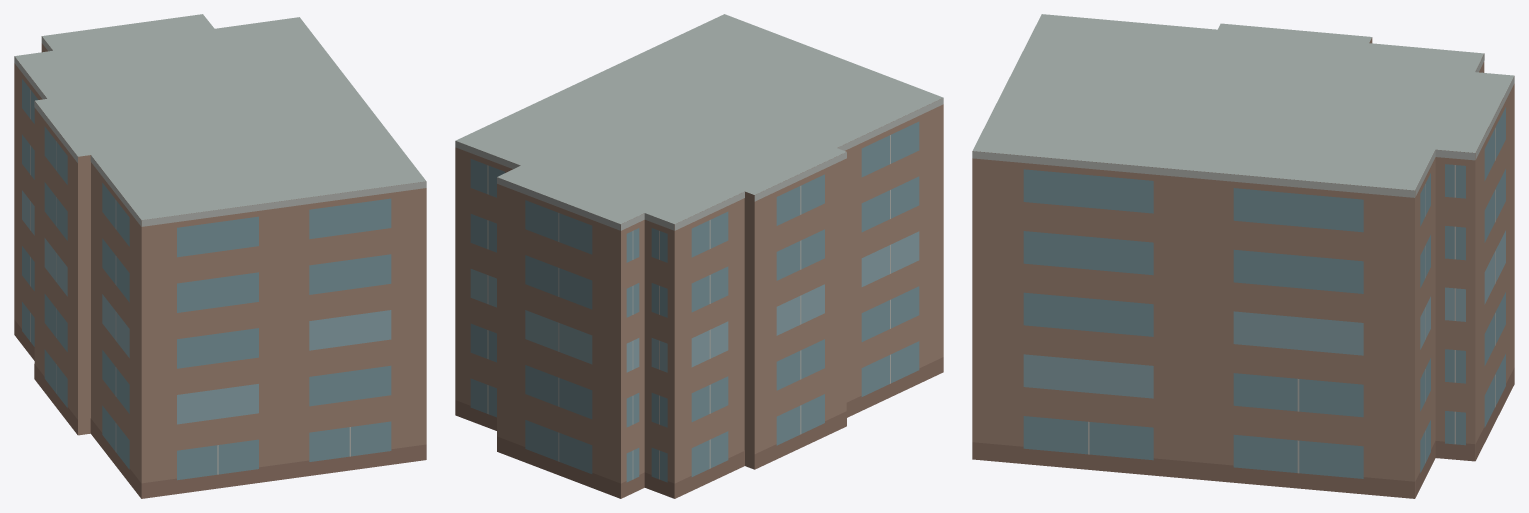
Rendered from survey-upis-32861479.glb.
3 views of the same model, side by side, from view 1: azimuth 30°, elevation 25°; view 2: azimuth 150°, elevation 25°; view 3: azimuth 270°, elevation 25° (orthographic). The views are drawn at different scales.
Visible parts, largest first — view 1: survey-upis-32861479.tmp; view 2: survey-upis-32861479.tmp; view 3: survey-upis-32861479.tmp.
Part boxes in pixels (<box>): survey-upis-32861479.tmp: <box>14,14,426,498</box>; survey-upis-32861479.tmp: <box>455,14,943,498</box>; survey-upis-32861479.tmp: <box>972,14,1514,498</box>.
Size of the model in its own units: 12.47 by 10.15 by 16.19.
